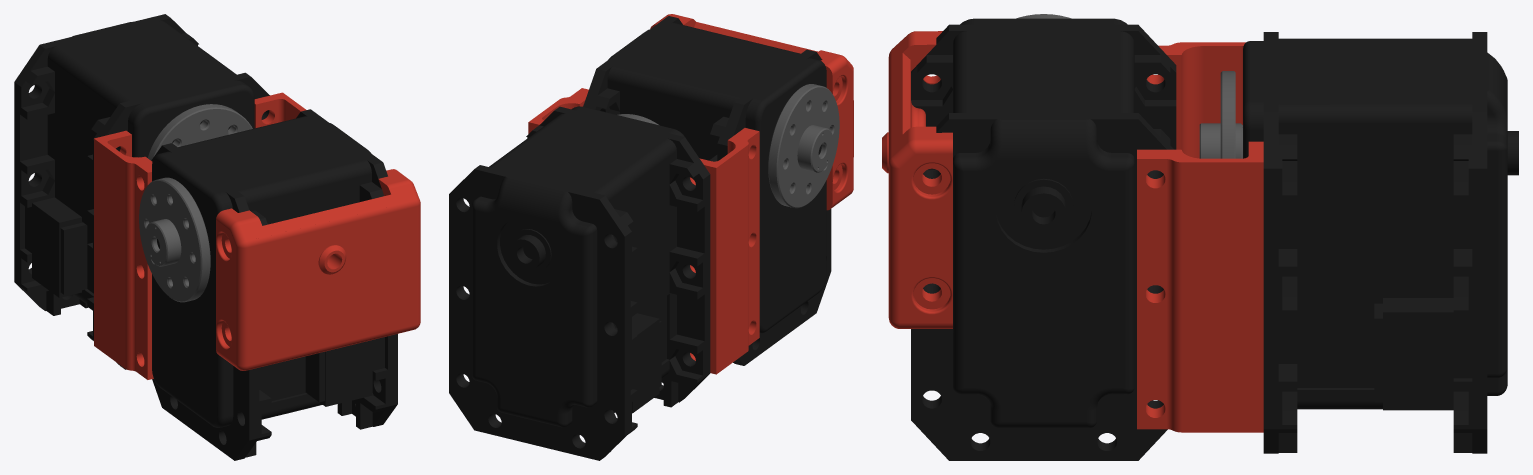
The model's file is Left Hip Front.dae.
3 renders of one model, left to right at view 1: azimuth 30°, elevation 25°; view 2: azimuth 150°, elevation 25°; view 3: azimuth 270°, elevation 25°, orthographic. The views are drawn at different scales.
Visible parts, largest first — view 1: Body1_Paint_-_Metallic_(Black) (×2), Body1_Paint_-_Metallic_(Red) (×3), Body1_Paint_-_Metallic_(Dark_Grey) (×2); view 2: Body1_Paint_-_Metallic_(Black) (×2), Body1_Paint_-_Metallic_(Red) (×3), Body1_Paint_-_Metallic_(Dark_Grey); view 3: Body1_Paint_-_Metallic_(Black) (×2), Body1_Paint_-_Metallic_(Red) (×3), Body1_Paint_-_Metallic_(Dark_Grey).
Part boxes in pixels (x1,y1,x2,y2): Body1_Paint_-_Metallic_(Black) (×2): [14, 14, 397, 460]; Body1_Paint_-_Metallic_(Red) (×3): [94, 92, 420, 379]; Body1_Paint_-_Metallic_(Dark_Grey) (×2): [139, 104, 252, 302]; Body1_Paint_-_Metallic_(Black) (×2): [449, 16, 831, 460]; Body1_Paint_-_Metallic_(Red) (×3): [528, 14, 853, 374]; Body1_Paint_-_Metallic_(Dark_Grey): [768, 84, 839, 208]; Body1_Paint_-_Metallic_(Black) (×2): [911, 18, 1518, 460]; Body1_Paint_-_Metallic_(Red) (×3): [882, 31, 1263, 432]; Body1_Paint_-_Metallic_(Dark_Grey): [1199, 71, 1242, 158].
Bounding box in the file's own units: 0.0428 × 0.0854 × 0.0506.
